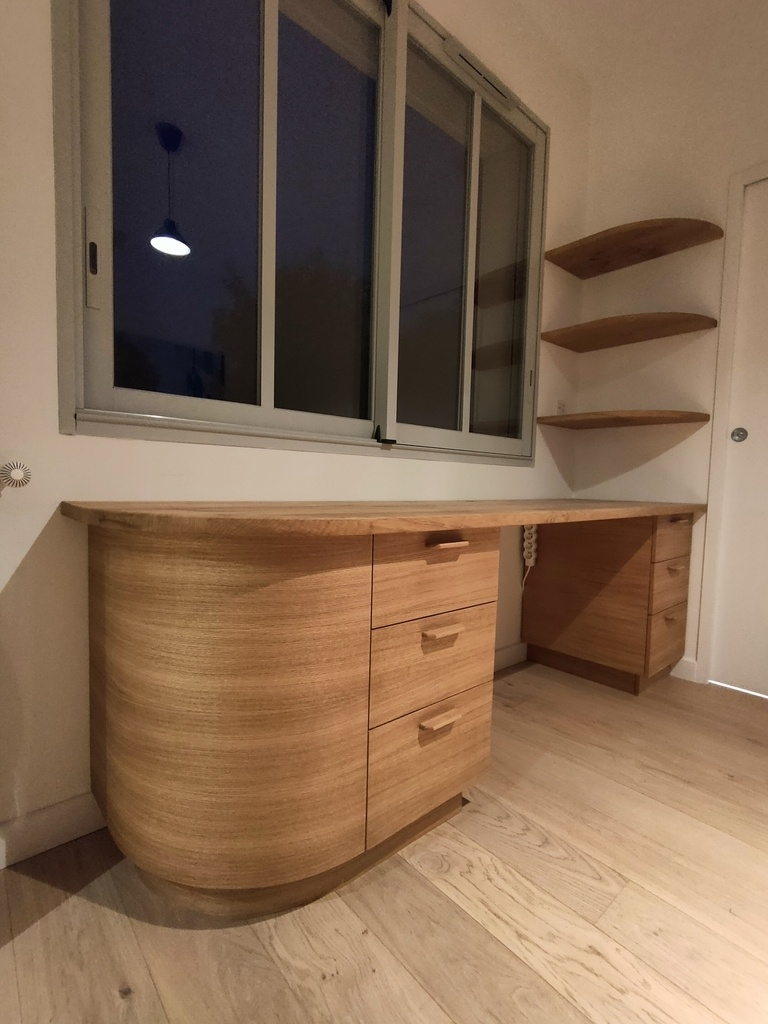Table: (508, 146, 709, 321)
